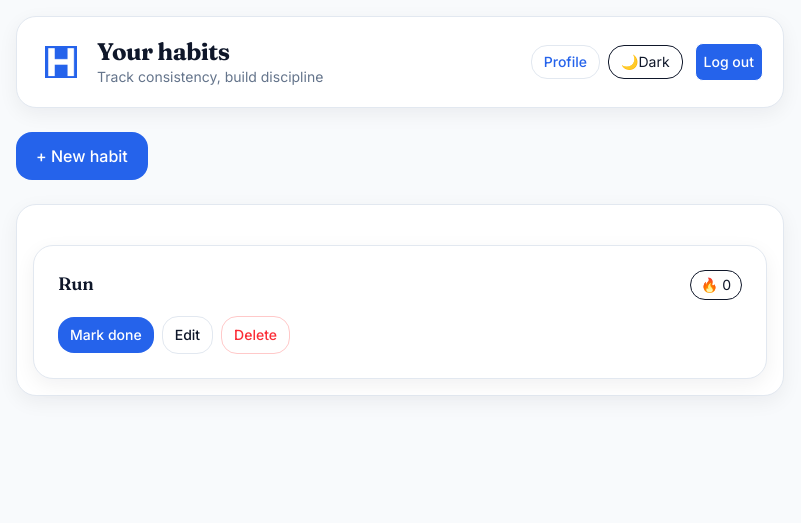
Scenario: habit form › deletes a habit only after explicit confirmation
This screenshot has width=801, height=523.
Click the button with test id "habit-delete-run". click: (256, 335)
box: [221,316,290,354]
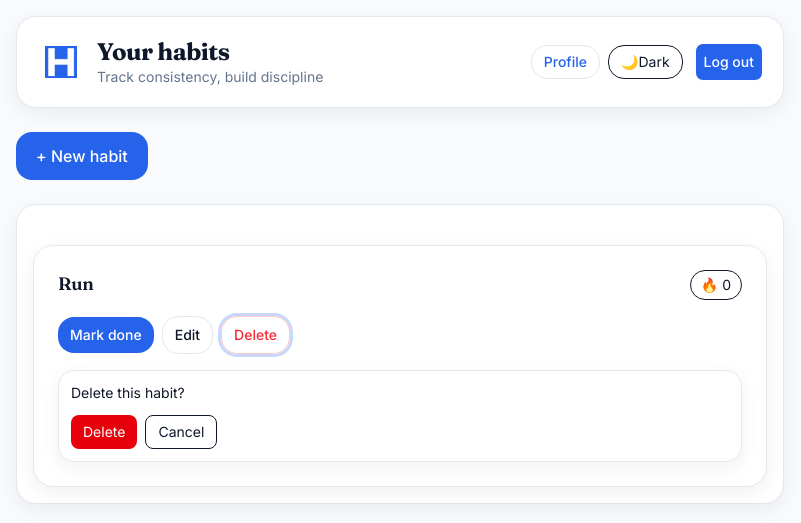
Check: the element with test id "habit-card-run" is shown, box [33,245,767,487]
Click the button with test id "confirm-delete-button". click: (104, 432)
box: [71,415,137,449]
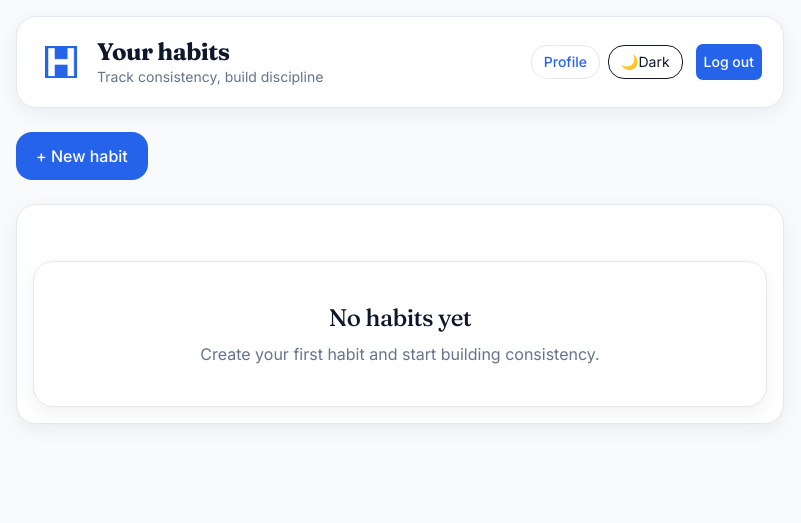
Check: the element with test id "habit-card-run" is gone
